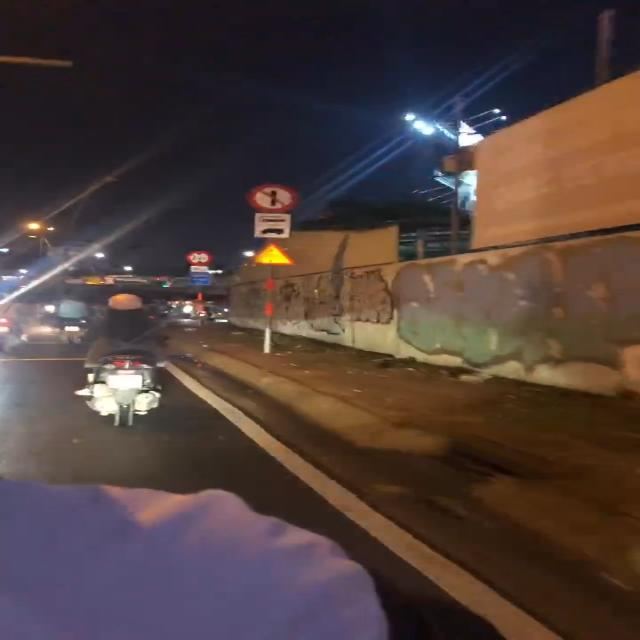Bien bao cam di thang: (246, 180, 304, 214)
